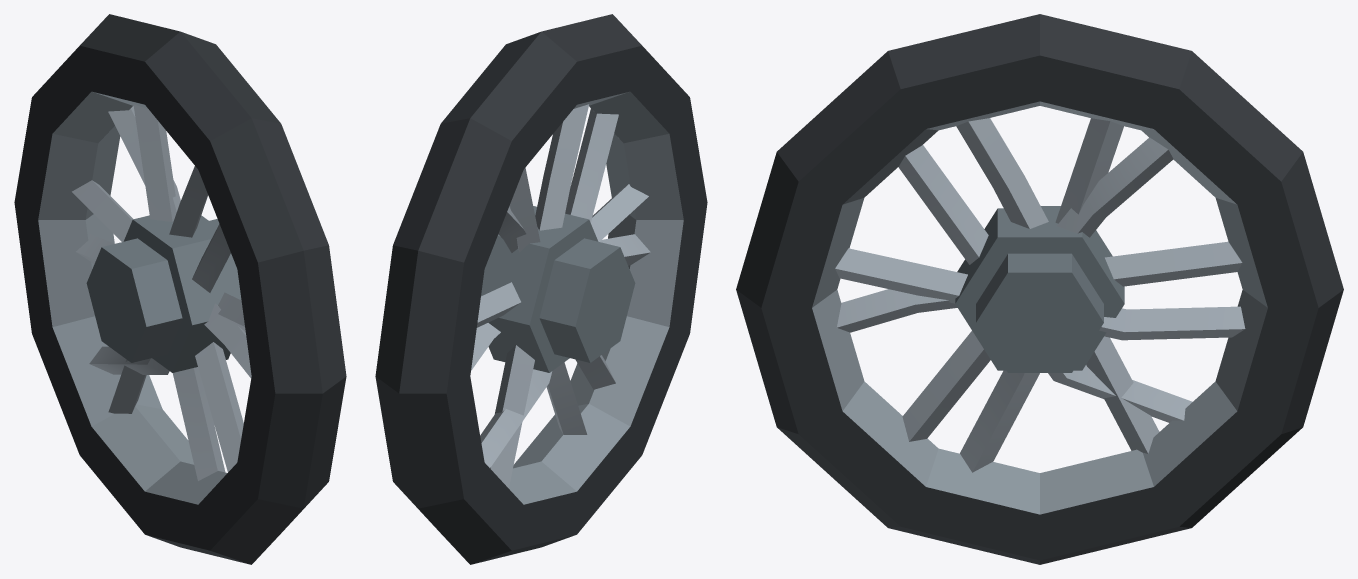
Rendered from SM_Prop_Cart_Metal_Wheel_l.glb.
3 renders of one model, left to right at view 1: azimuth 30°, elevation 25°; view 2: azimuth 150°, elevation 25°; view 3: azimuth 270°, elevation 25°, orthographic. The views are drawn at different scales.
Parts seen in each view (by area): view 1: SM_Prop_Cart_Metal_Wheel_l; view 2: SM_Prop_Cart_Metal_Wheel_l; view 3: SM_Prop_Cart_Metal_Wheel_l.
Part boxes in pixels (box(x1,y1,x2,y2)): SM_Prop_Cart_Metal_Wheel_l: box(14, 14, 346, 564); SM_Prop_Cart_Metal_Wheel_l: box(375, 14, 707, 564); SM_Prop_Cart_Metal_Wheel_l: box(736, 14, 1343, 564).
Size of the model in its own units: 0.1776 by 0.685 by 0.685.
1 material, 1 textured.
